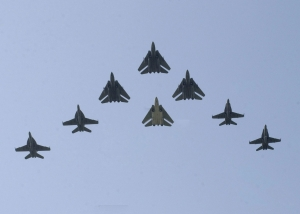flight: (137, 41, 171, 77), (97, 71, 132, 104), (172, 68, 206, 101), (61, 103, 98, 133), (141, 96, 174, 128), (14, 131, 51, 159), (248, 123, 282, 152), (212, 98, 245, 127)
